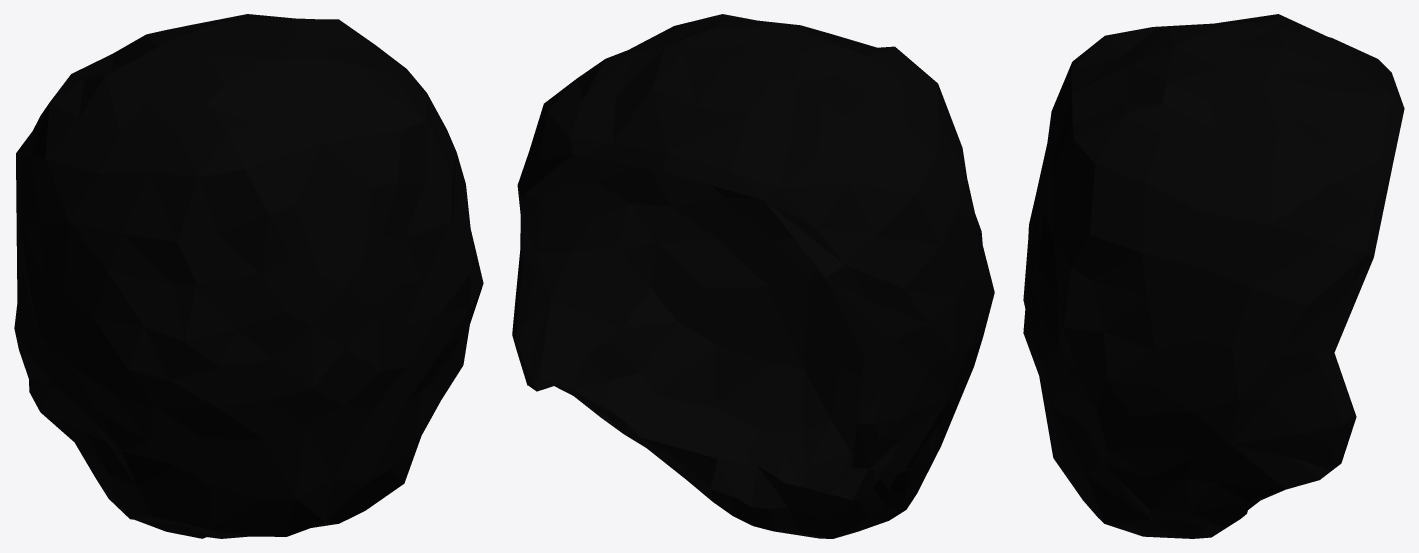
Rendered from CasinoHair2.glb.
3 renders of one model, left to right at view 1: azimuth 30°, elevation 25°; view 2: azimuth 150°, elevation 25°; view 3: azimuth 270°, elevation 25°, orthographic. The views are drawn at different scales.
Parts seen in each view (by area): view 1: CasinoHair2; view 2: CasinoHair2; view 3: CasinoHair2.
Boxes of the visible parts, x1,y1,x2,y2 form: CasinoHair2: (14,14,483,538); CasinoHair2: (512,14,994,538); CasinoHair2: (1023,14,1404,538).
Size of the model in its own units: 0.2087 by 0.2326 by 0.167.
1 material, 1 textured.
